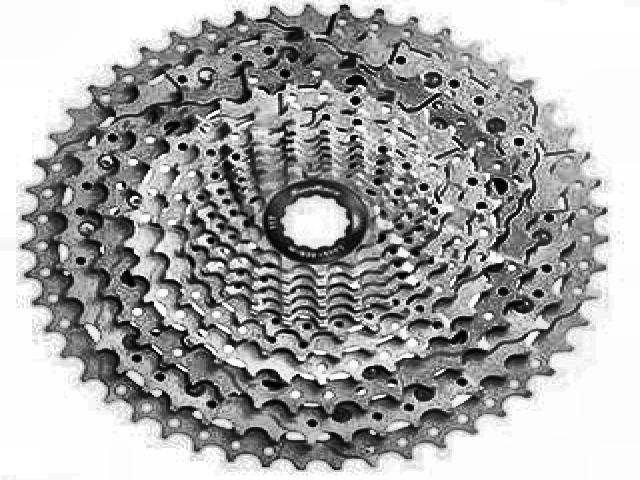cassette: (11, 3, 605, 472)
